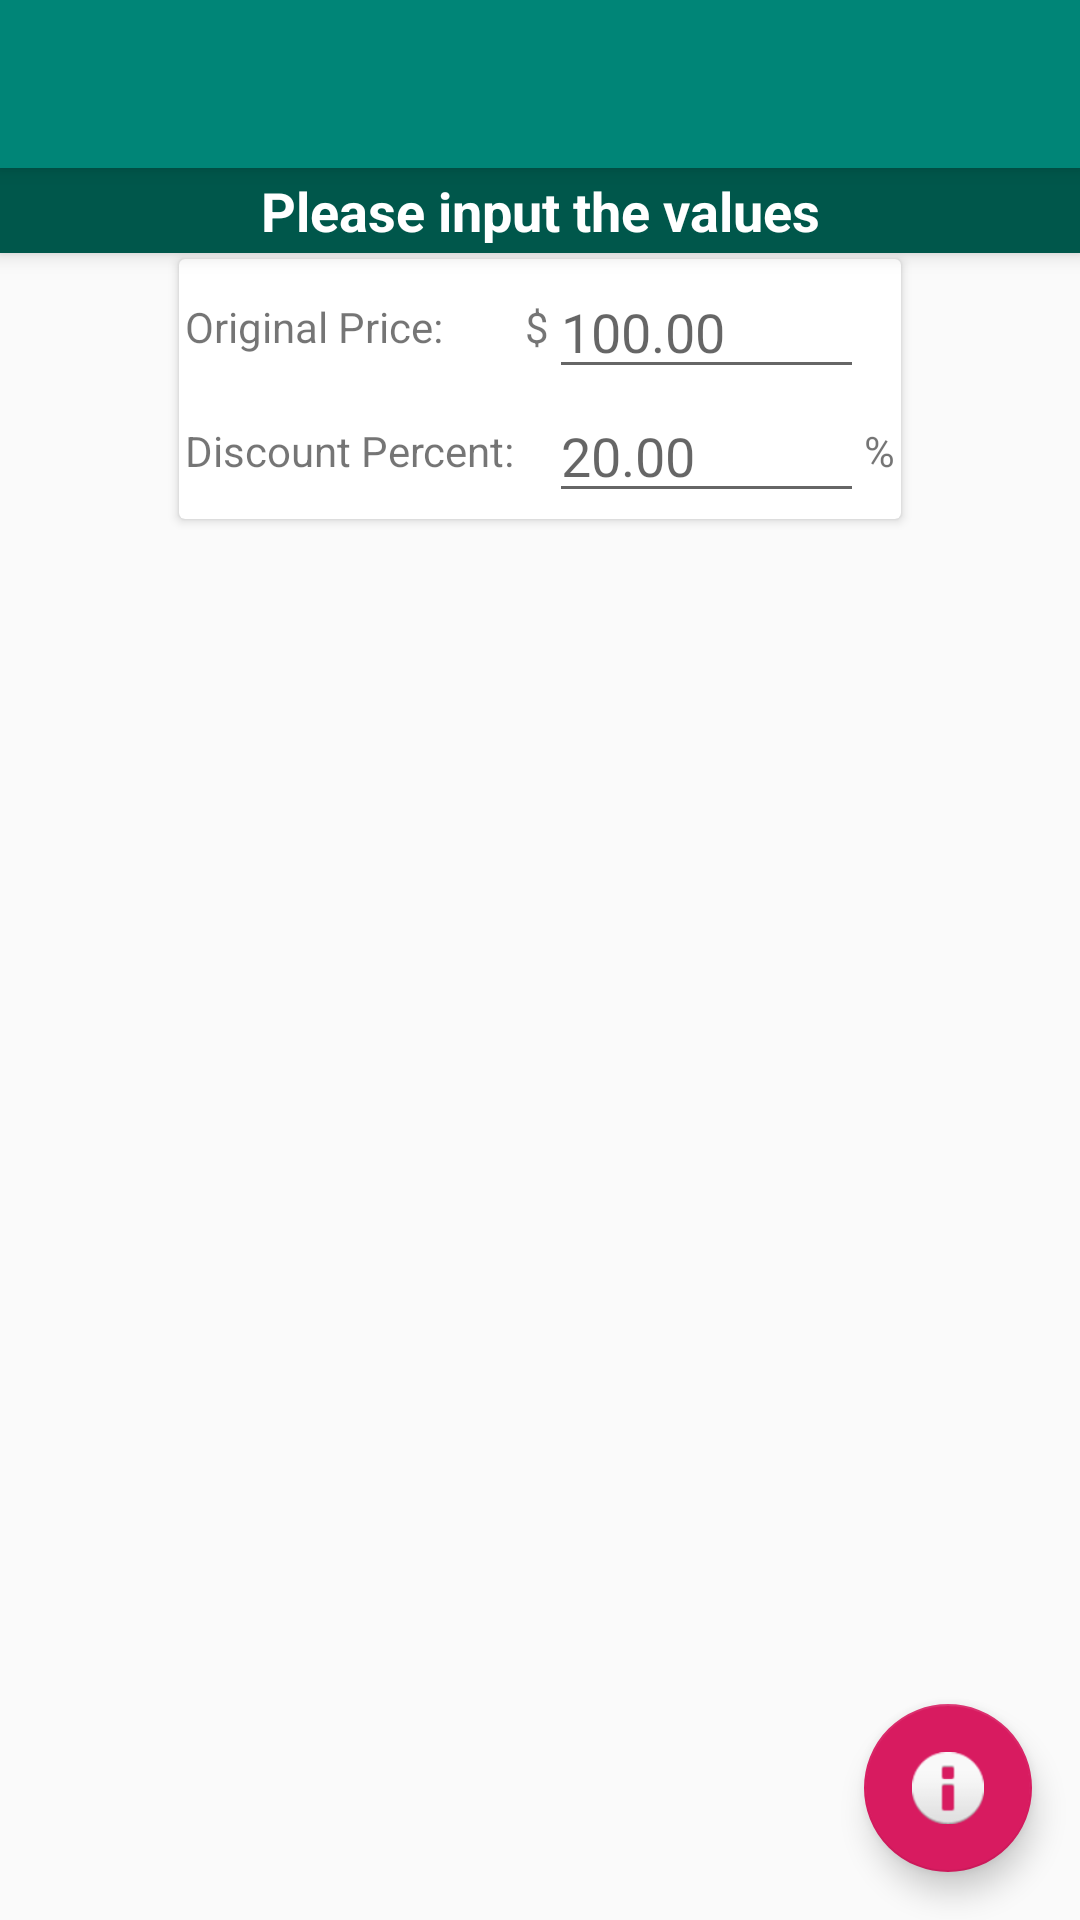

Where to tap for icons on this 1080×1920 app screen, as (x=x, y=y):
info: (x=948, y=1788)
